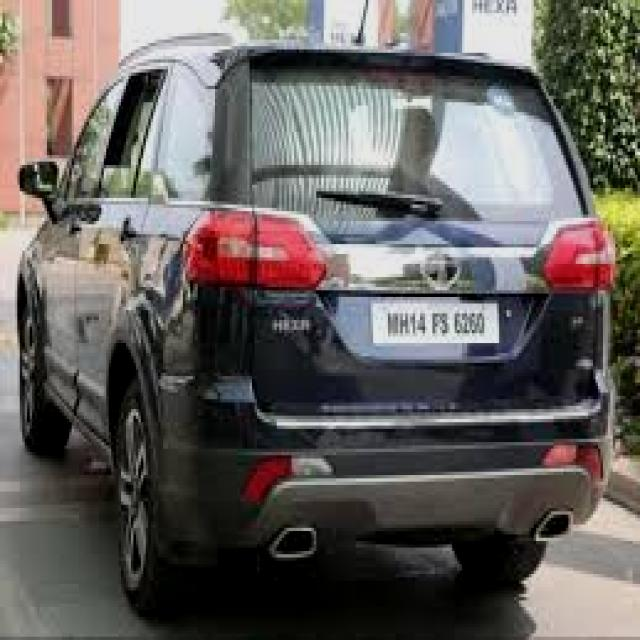SUV: (12, 30, 612, 620)
